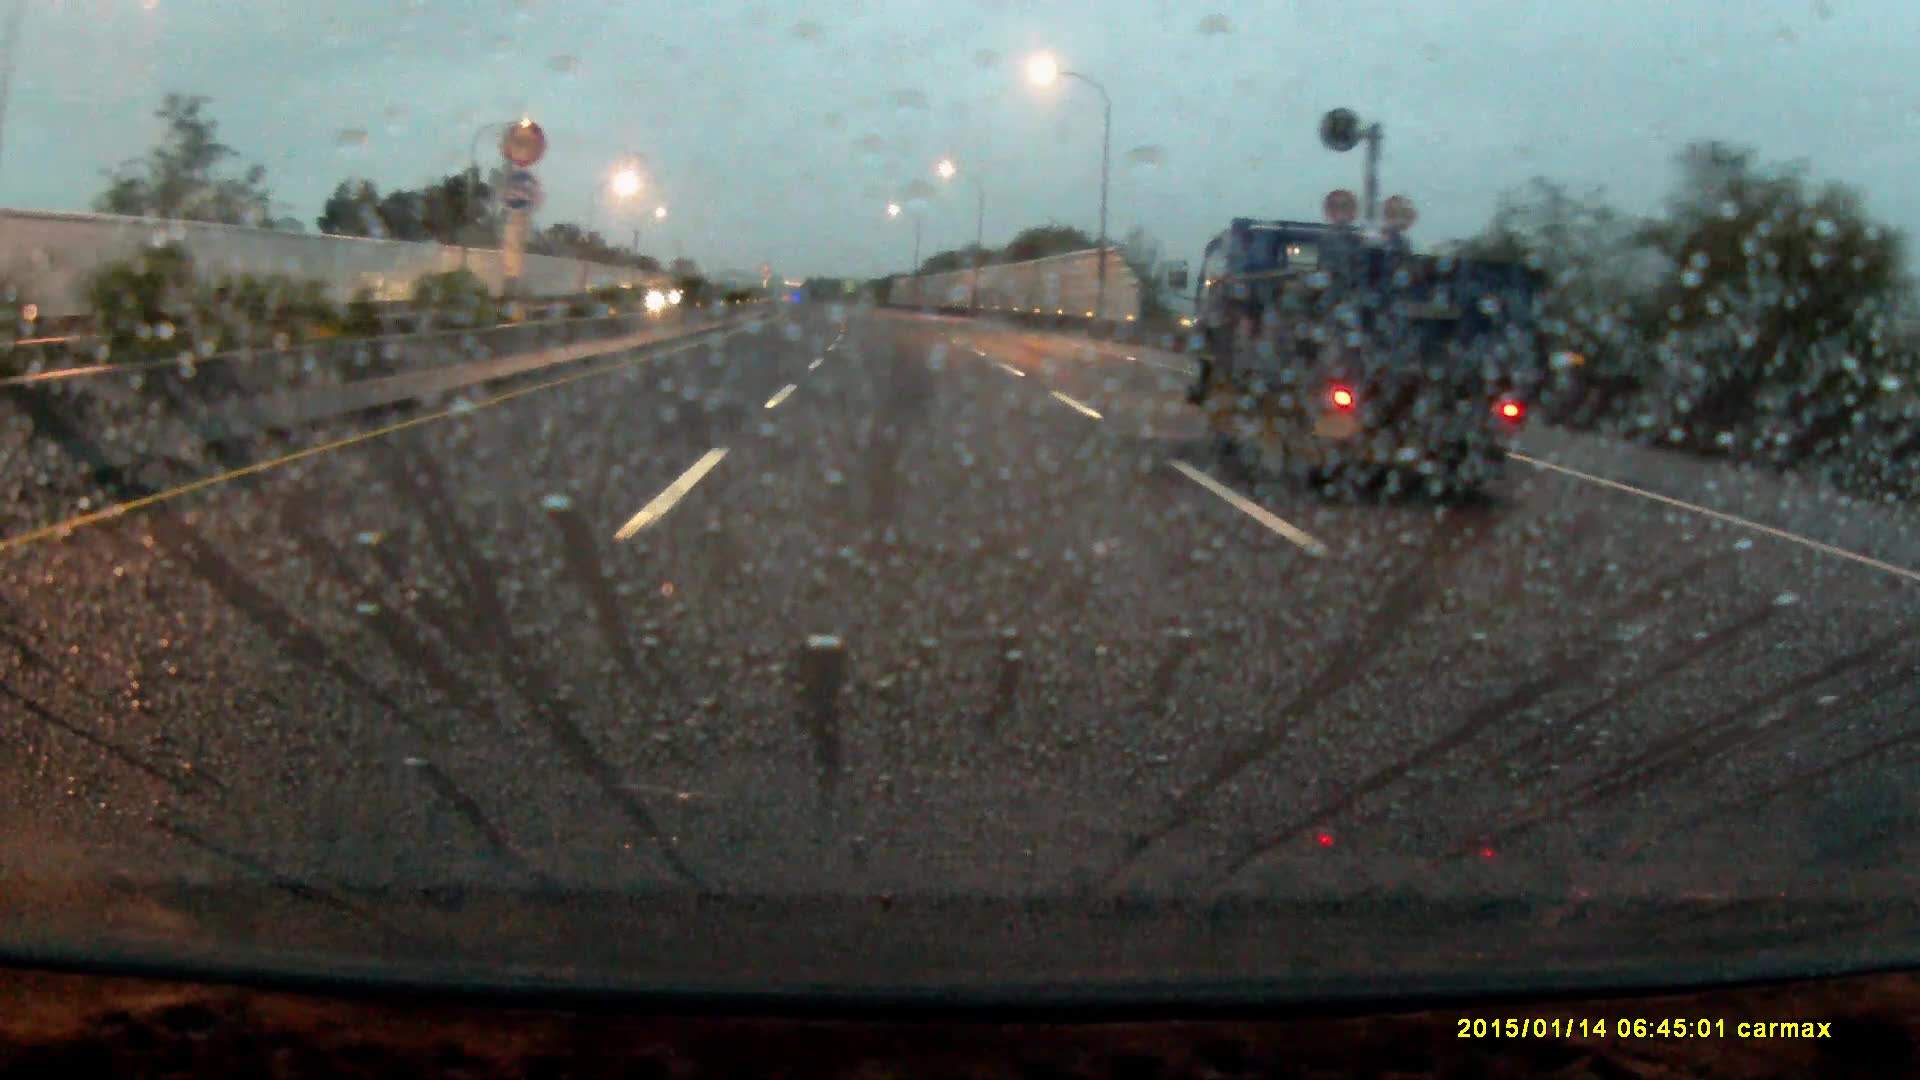vehicle: (1205, 204, 1553, 524)
